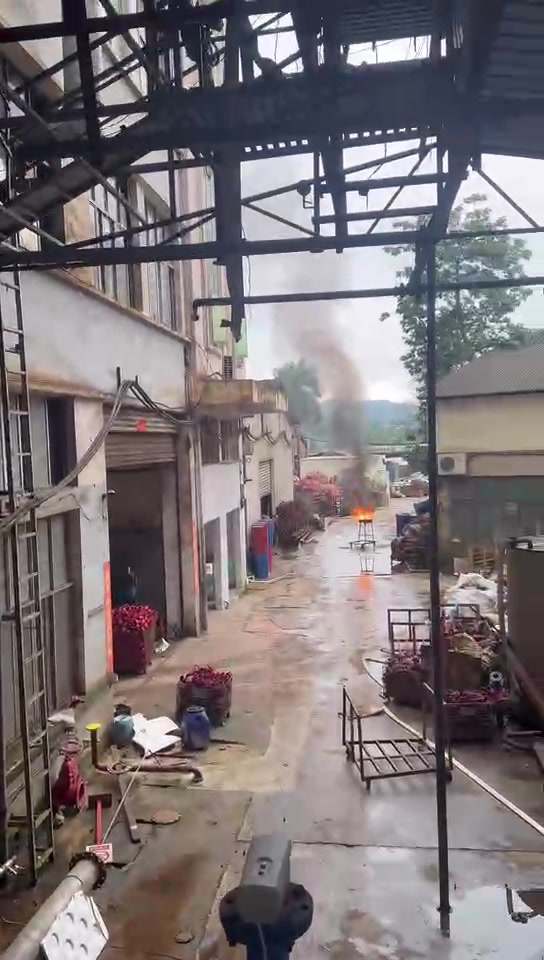fire: (351, 505, 372, 519)
